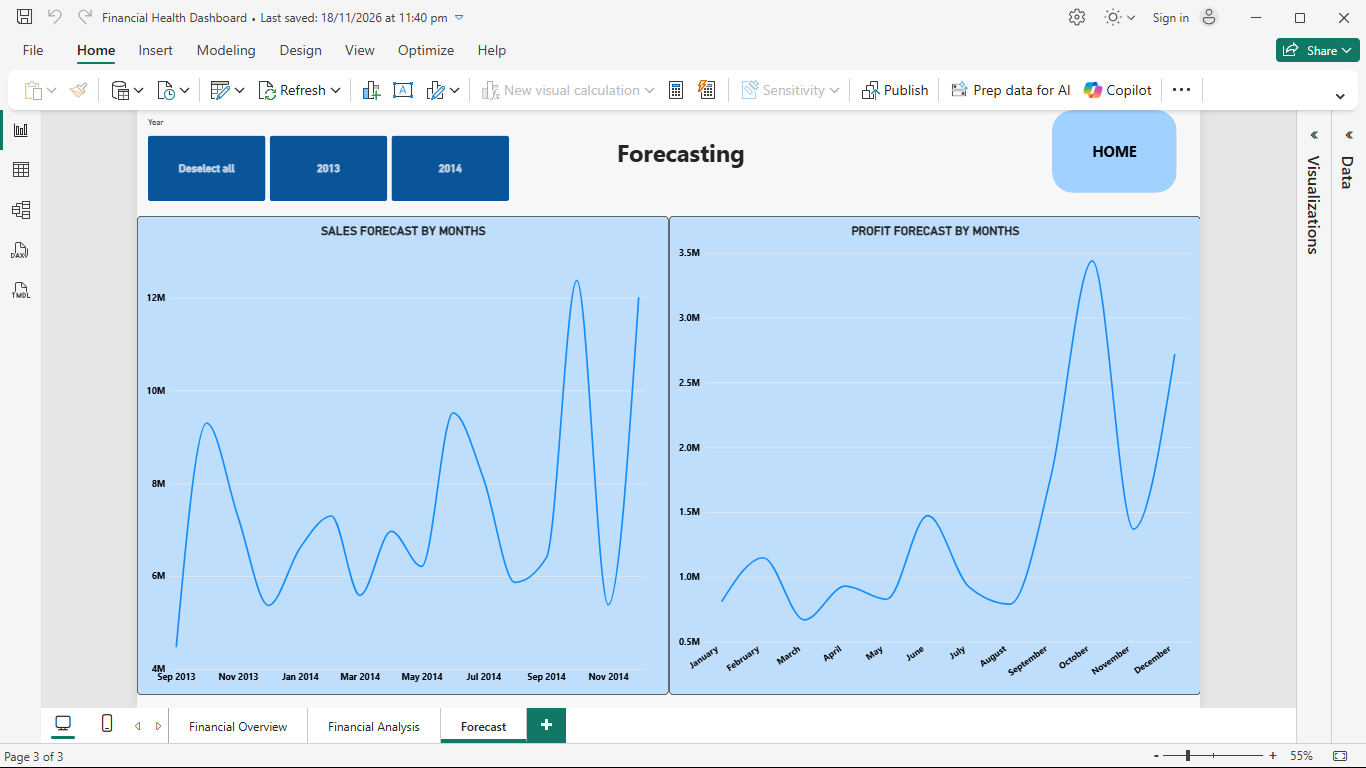

What the dashboard file says about the page in this screenshot:
{"tool":"powerbi","page":{"name":"Forecast","canvas":[1920,1080],"ordinal":2},"visuals":[{"type":"lineChart","title":"SALES FORECAST BY MONTHS","fields":{"Category":["financials (2).Date.Variation.Date Hierarchy.Year","financials (2).Date.Variation.Date Hierarchy.Quarter","financials (2).Date.Variation.Date Hierarchy.Month","financials (2).Date.Variation.Date Hierarchy.Day"],"Y":["Sum(financials (2). Sales)"]},"box":[0,192,960,865],"z":0},{"type":"lineChart","title":"PROFIT FORECAST BY MONTHS","fields":{"Category":["financials (2).Date.Variation.Date Hierarchy.Year","financials (2).Date.Variation.Date Hierarchy.Quarter","financials (2).Date.Variation.Date Hierarchy.Month","financials (2).Date.Variation.Date Hierarchy.Day"],"Y":["Sum(financials (2).Profit)"]},"box":[960,192,960,865],"z":1000},{"type":"textbox","box":[750.8,49.3,461.2,81.5],"z":2000},{"type":"advancedSlicerVisual","fields":{"Values":["financials (2).Date.Variation.Date Hierarchy.Year"]},"box":[19.3,15,652.2,150.2],"z":3000},{"type":"actionButton","box":[1652.1,0,225.5,149.6],"z":3001}]}

Visuals, with their boxes on the page's 1920x1080 design canvas (x1, y1, x2, y2). These are canvas units, not pixel positions in the 1366x768 screenshot, which may show the page scaled, cropped or inside an application window:
"SALES FORECAST BY MONTHS" lineChart: 0,192,960,1057
"PROFIT FORECAST BY MONTHS" lineChart: 960,192,1920,1057
textbox: 751,49,1212,131
advancedSlicerVisual - financials (2).Date.Variation.Date Hierarchy.Year: 19,15,672,165
actionButton: 1652,0,1878,150
